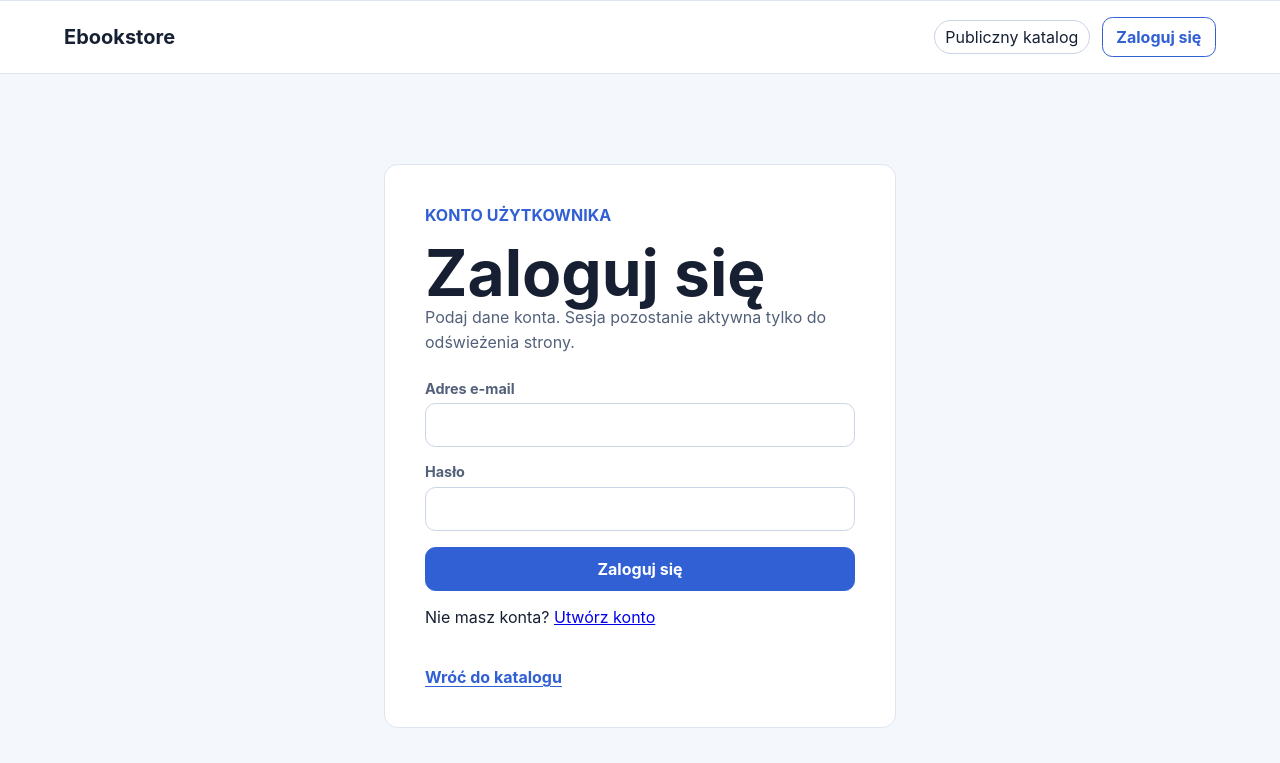
Scenario: profile flow › loads the authoritative profile with the in-memory access token
This screenshot has width=1280, height=763.
Type "user@example.com" into the field labelled "Adres e-mail" at (640, 425), box x1=425 y1=403 x2=855 y2=447
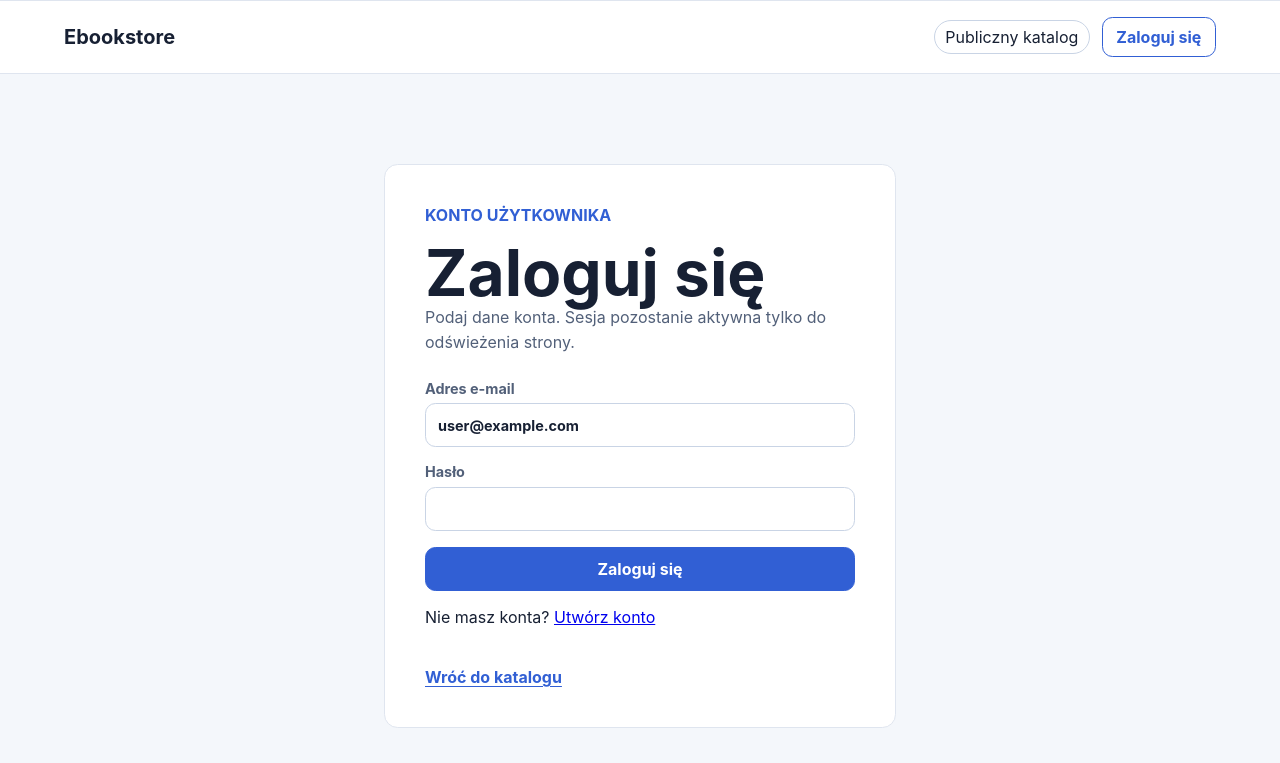
Type "Correct-Horse-42" into the password field labelled "Hasło" at (640, 509), box x1=425 y1=487 x2=855 y2=531
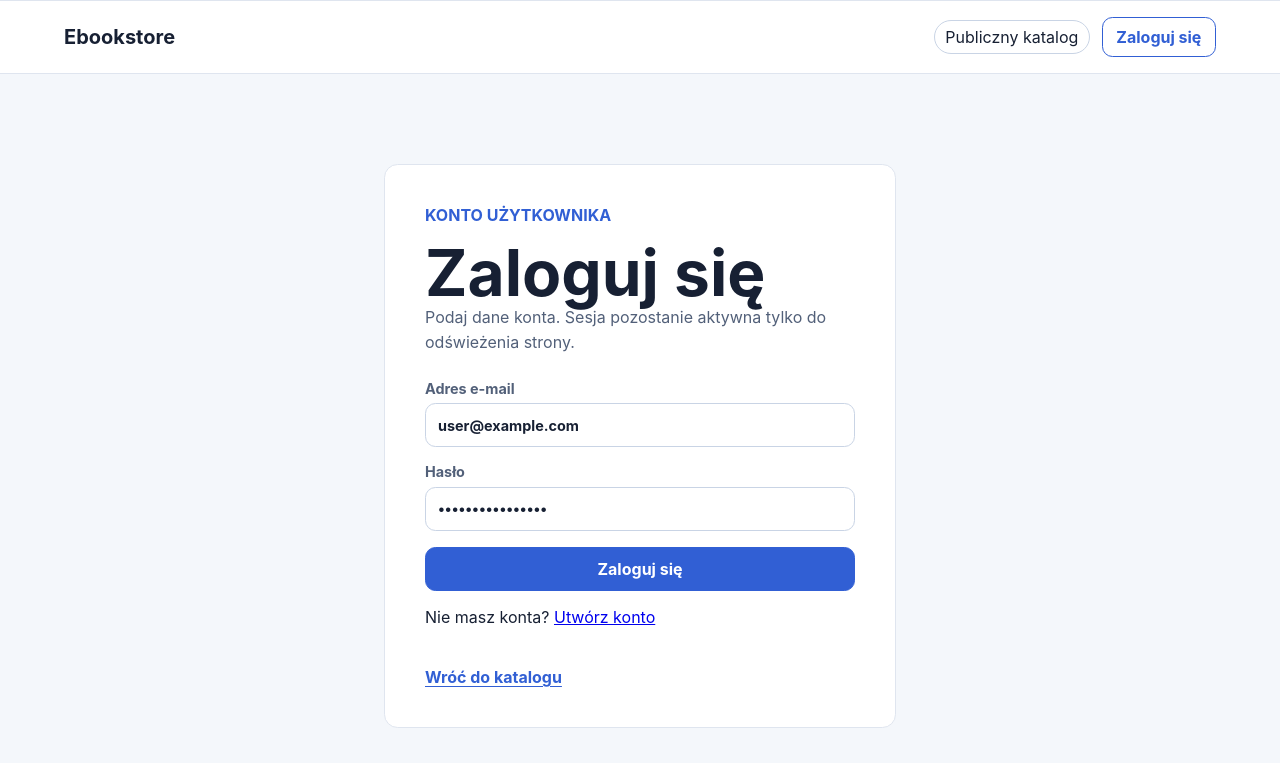
Click the button "Zaloguj się" at (640, 569), box x1=425 y1=547 x2=855 y2=591
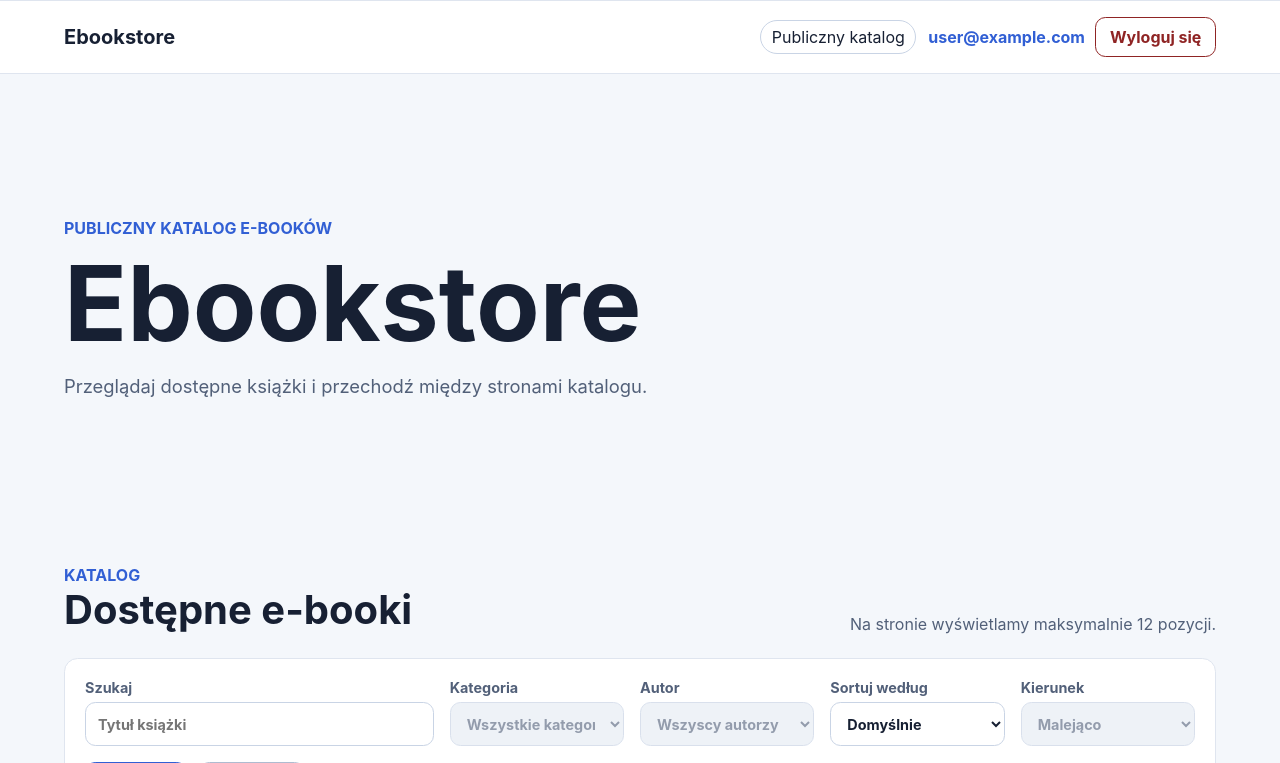
Click the link with aria-label "Zalogowano jako user@example.com" at (1007, 37), box x1=928 y1=27 x2=1085 y2=47
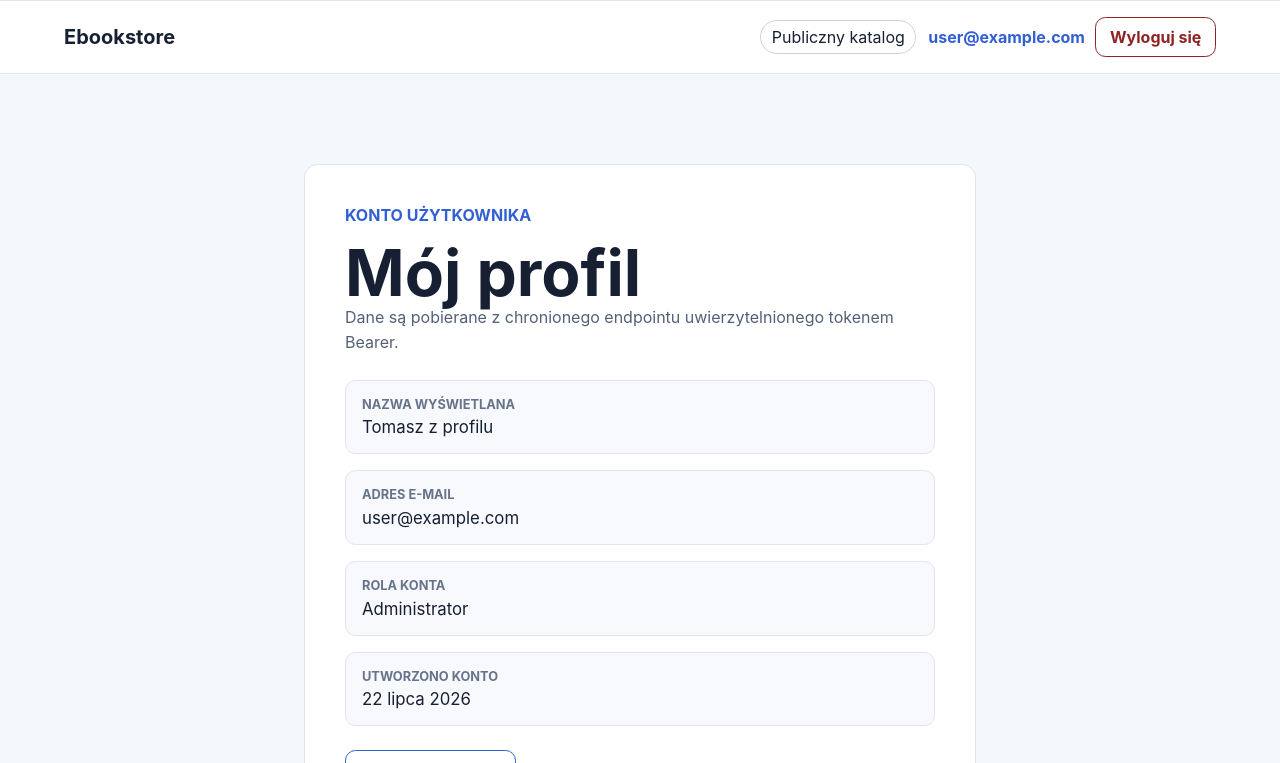
Expected: the text "Tomasz z profilu" is shown, x1=362 y1=417 x2=493 y2=437
Expected: the text "Administrator" is shown, x1=362 y1=599 x2=468 y2=619
